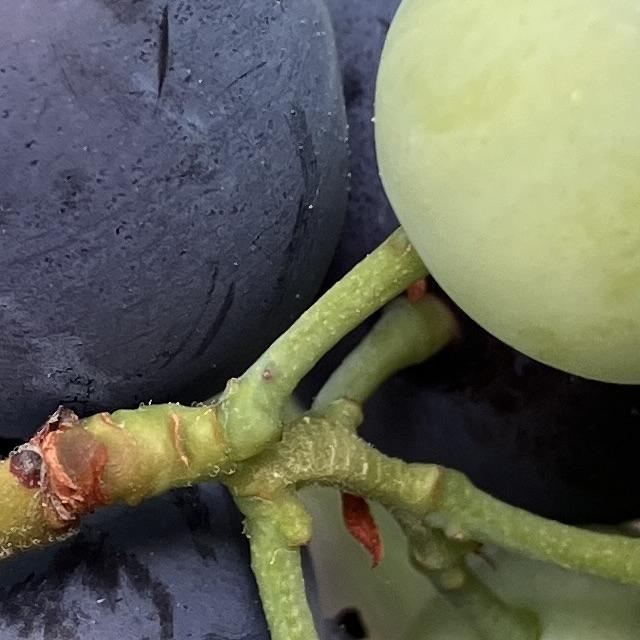Blueberries: (342, 0, 640, 409)
